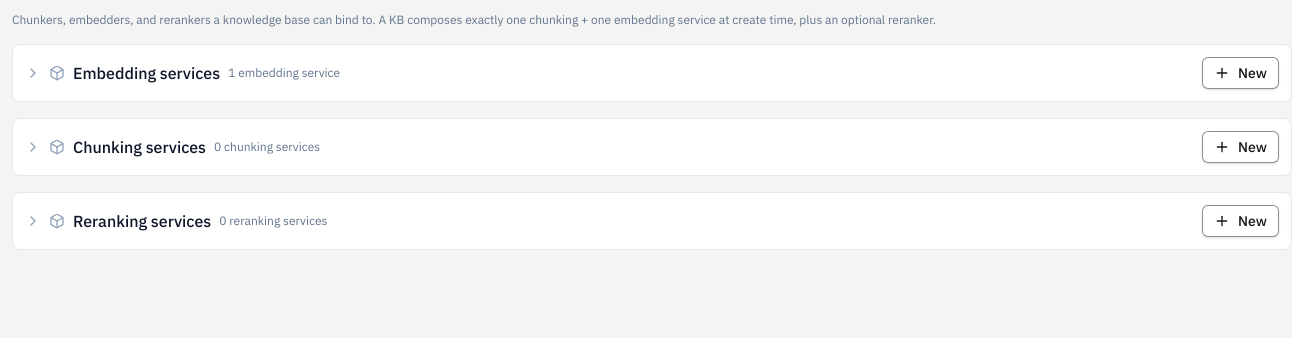
Test: ServicesPanel › expands a subpanel and renders the underlying rows when its header is clicked
The width and height of the screenshot is (1292, 338).
expect the text "OpenAI default" is not shown: met
Click the button "Embedding services 1 embedding service" at x=147, y=73, box left=25, top=61, right=1190, bottom=85
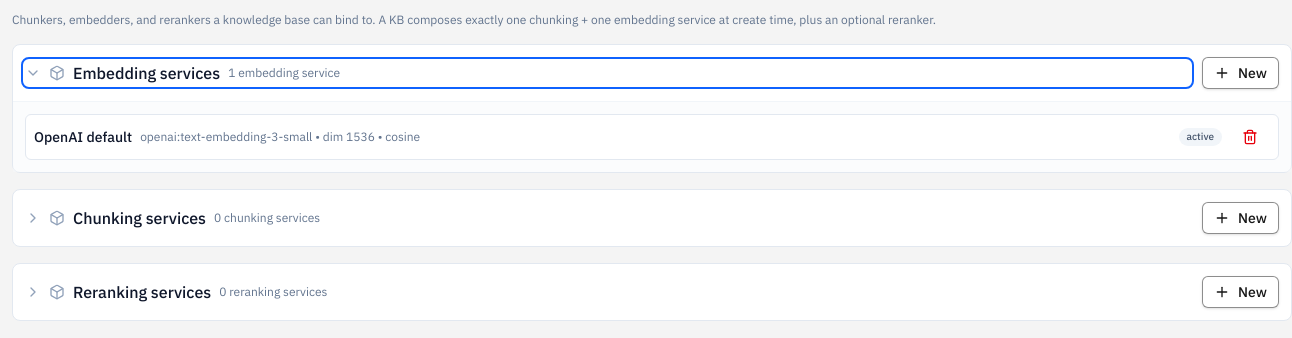
expect the text "OpenAI default" is shown: met, box left=34, top=127, right=132, bottom=147
expect the text "openai:text-embedding-3-small • dim 1536 • cosine" is shown: met, box left=140, top=129, right=420, bottom=145
